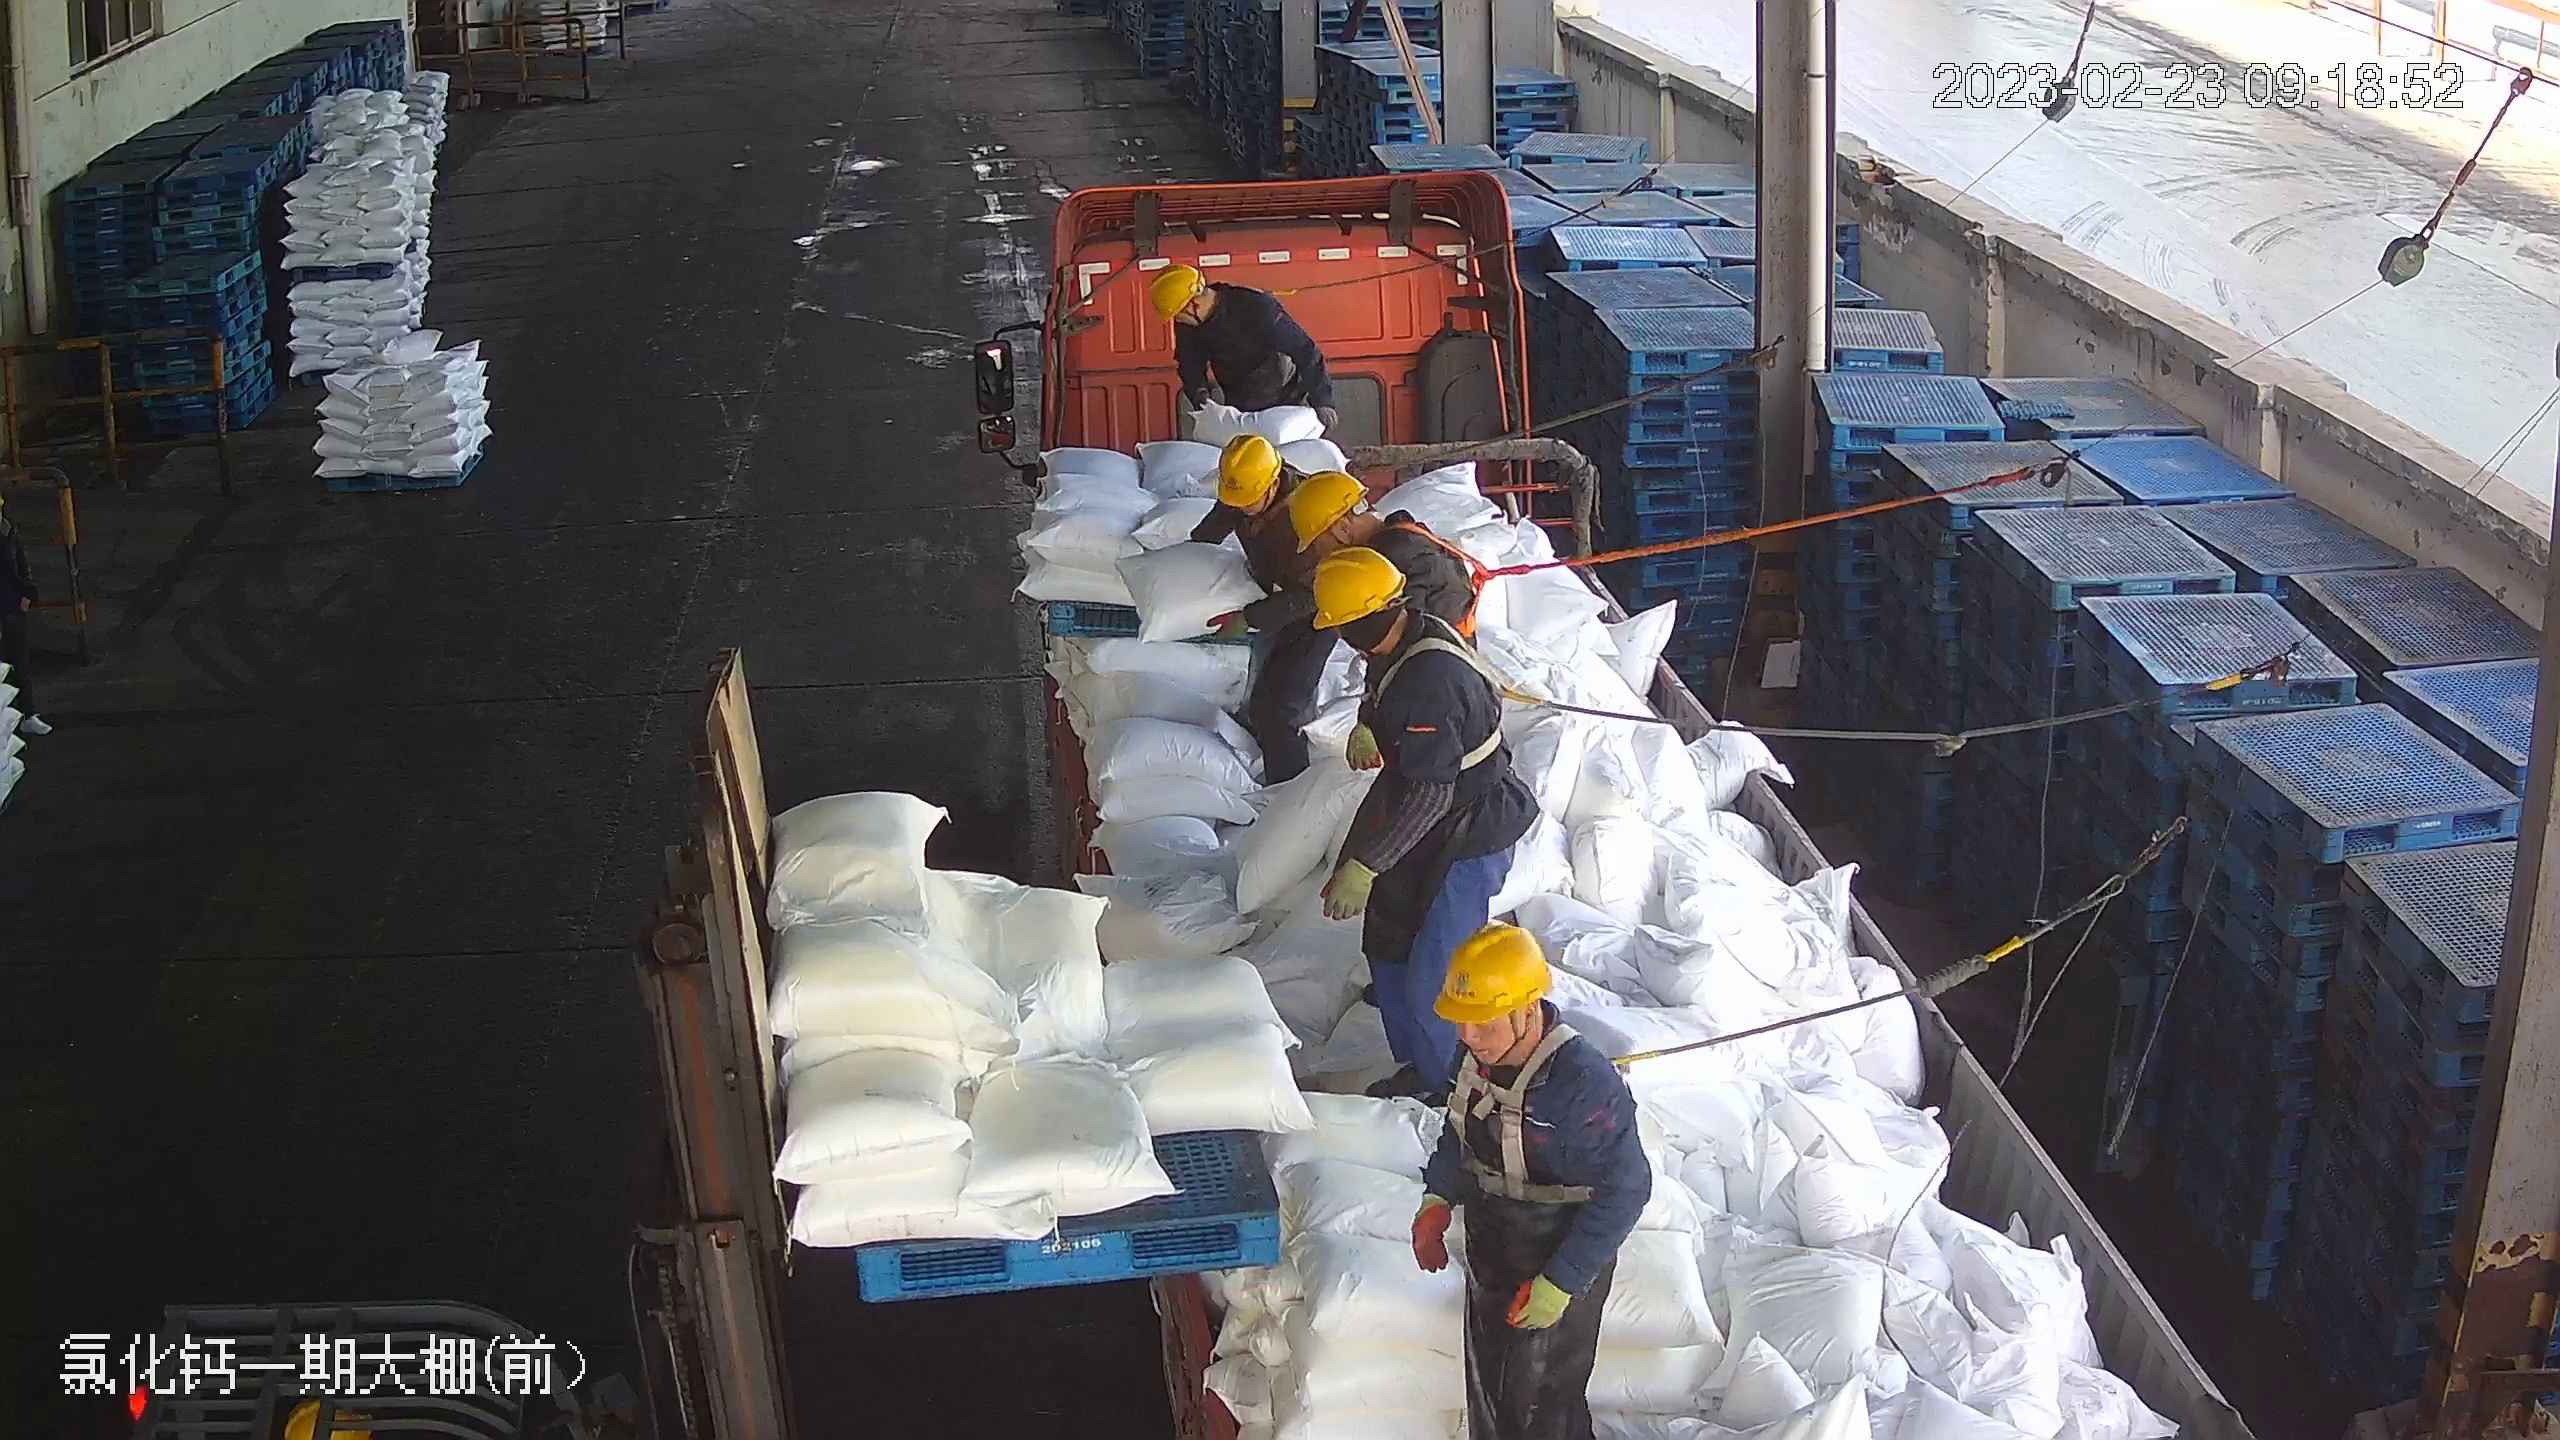belt: (1436, 1016, 1661, 1192), (1369, 617, 1552, 769), (1372, 522, 1523, 639), (1242, 489, 1309, 544), (1238, 280, 1308, 320)
head: (1430, 917, 1614, 1142), (1312, 547, 1499, 744), (1297, 470, 1449, 586), (1149, 265, 1268, 353)
helmet: (1436, 916, 1552, 1021), (1314, 546, 1404, 627), (1287, 469, 1366, 550), (1213, 433, 1281, 508), (1149, 264, 1203, 323)
people: (1312, 540, 1532, 1100), (1417, 924, 1644, 1436), (1186, 435, 1331, 791), (1151, 264, 1335, 430)
truck: (1003, 162, 2237, 1426)
